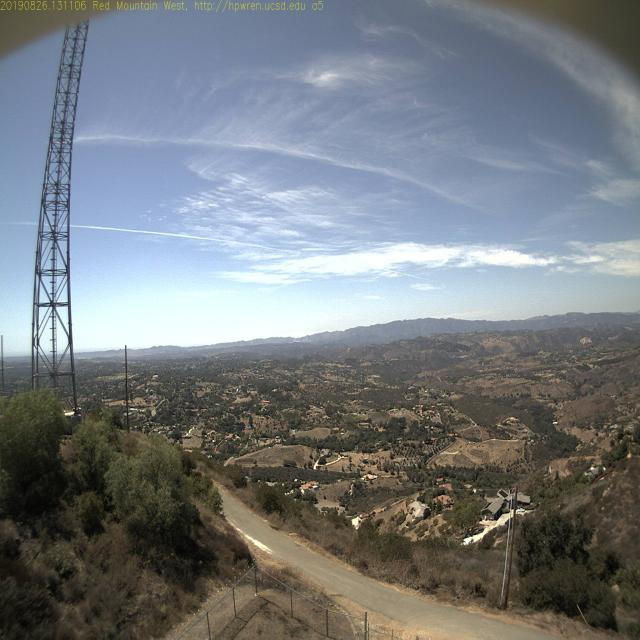smoke: (288, 335, 302, 346)
